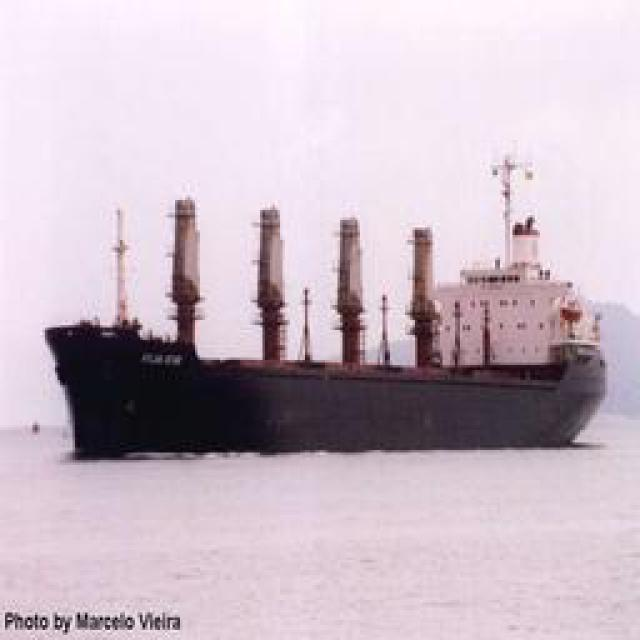Ship: (165, 146, 603, 461)
